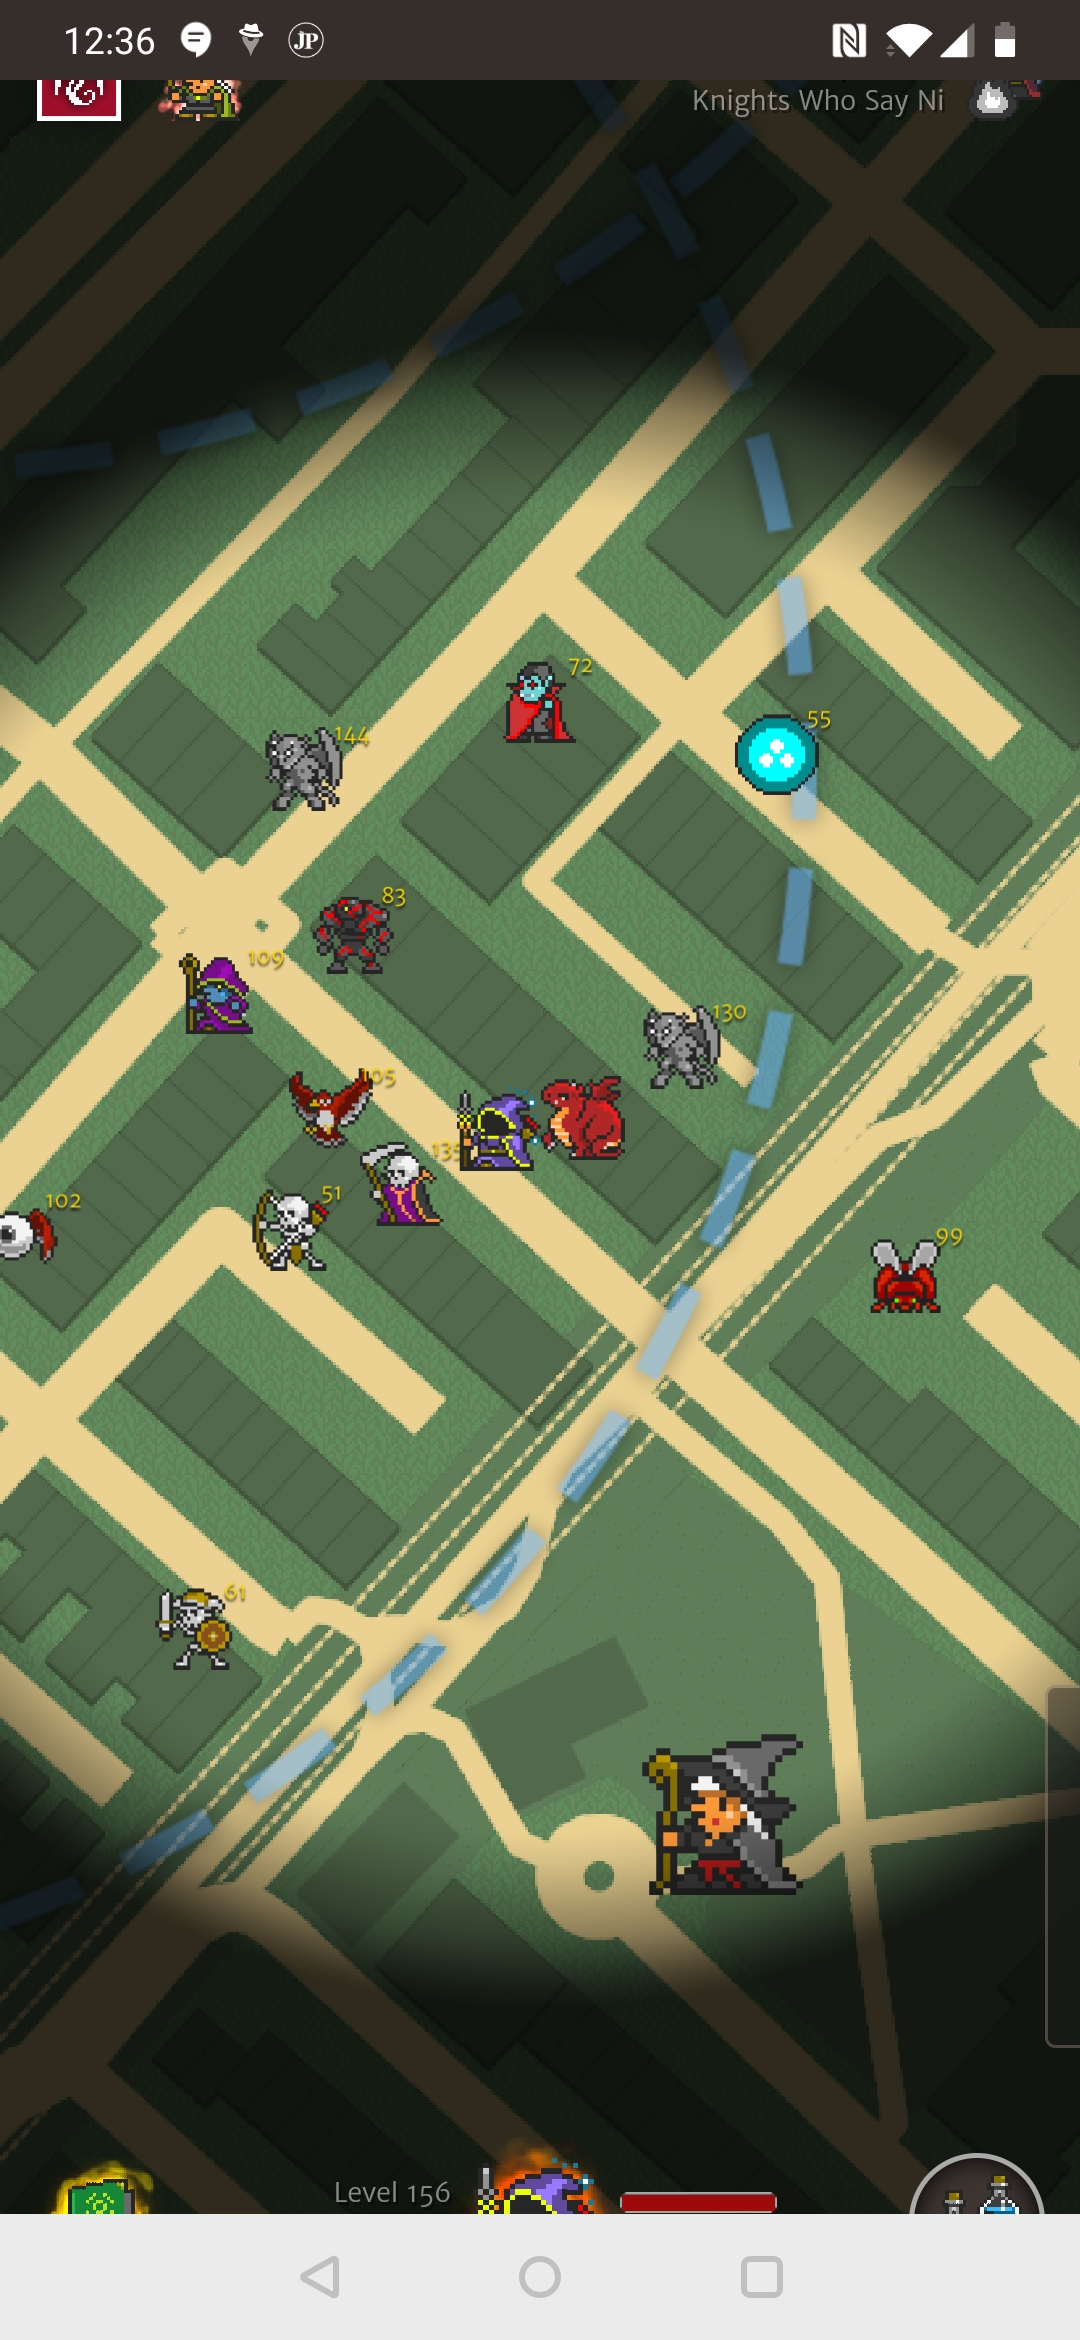monster: (722, 692, 846, 823), (846, 1220, 974, 1340), (484, 651, 608, 765), (236, 1168, 350, 1282), (250, 723, 381, 823), (636, 996, 760, 1099), (174, 937, 288, 1044), (308, 882, 419, 985), (281, 1058, 401, 1151), (353, 1134, 463, 1234), (143, 1575, 246, 1678), (543, 1068, 646, 1144), (1, 1178, 88, 1262)
player: (453, 1096, 532, 1189)
